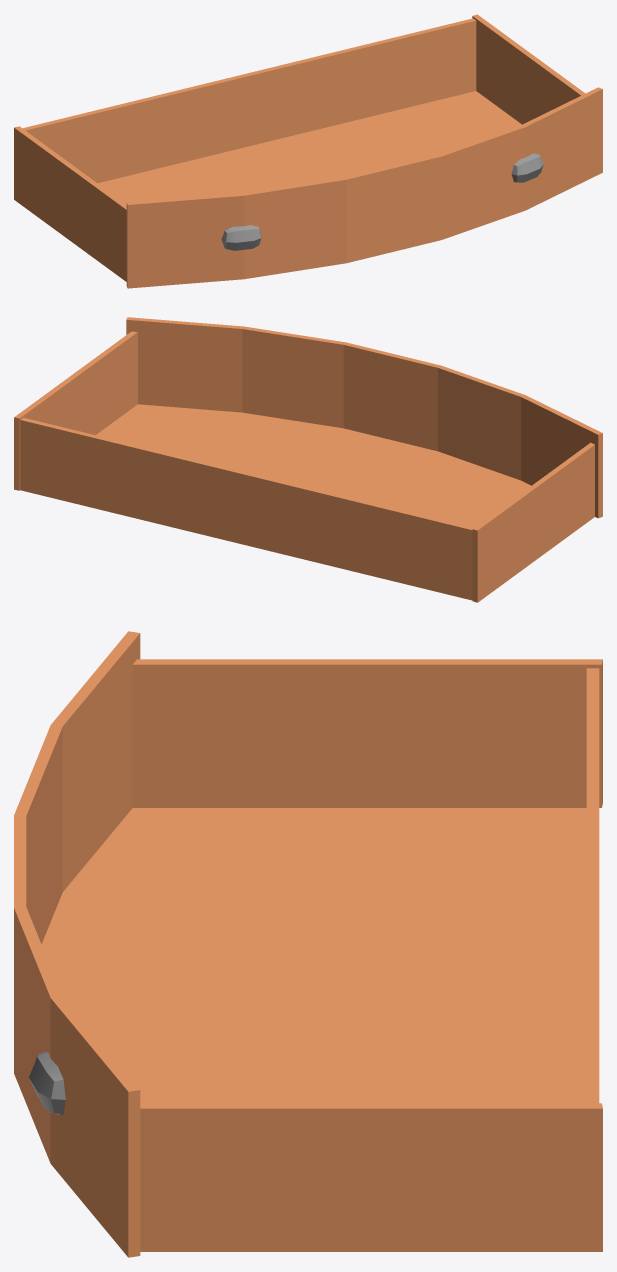
File: Armario03_Cajon03.fbx
3 views of the same model, one above another, from view 1: azimuth 30°, elevation 25°; view 2: azimuth 150°, elevation 25°; view 3: azimuth 270°, elevation 25° (orthographic). The views are drawn at different scales.
Parts seen in each view (by area): view 1: Armario03_Cajon03; view 2: Armario03_Cajon03; view 3: Armario03_Cajon03.
Part boxes in pixels (x1,y1,x2,y2): Armario03_Cajon03: [14, 14, 602, 288]; Armario03_Cajon03: [14, 317, 602, 602]; Armario03_Cajon03: [14, 631, 602, 1257].
Size of the model in its own units: 135 by 22.63 by 72.82.
